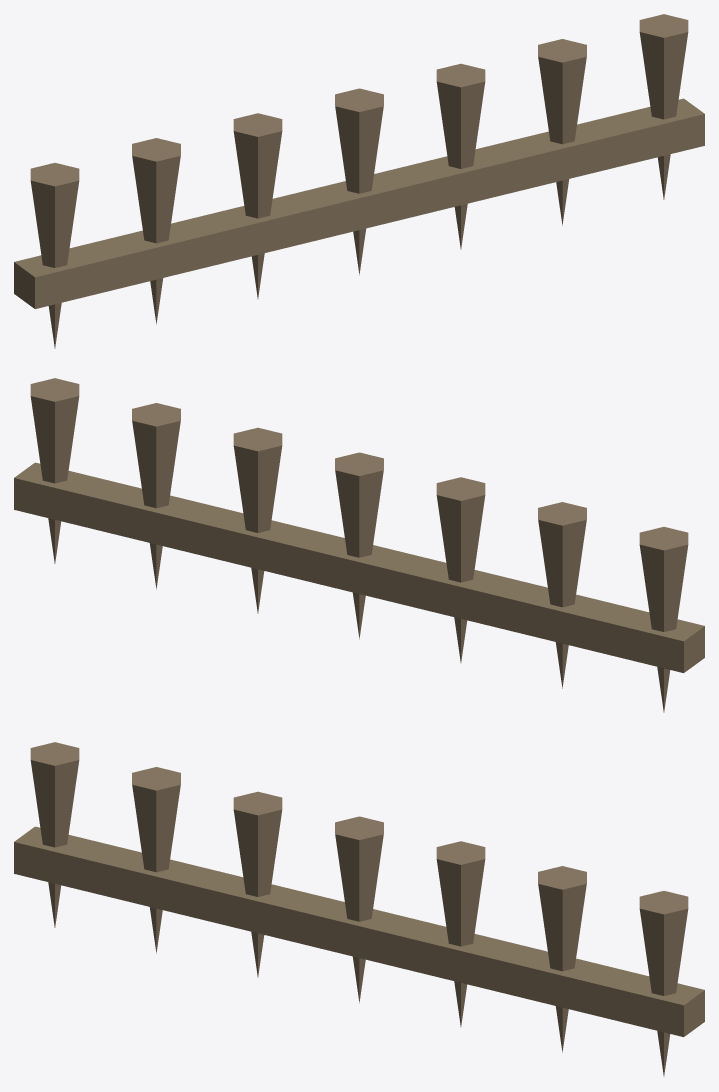
File: fence_spikes.glb
The picture shows the model from 3 angles, top to bottom: view 1: azimuth 30°, elevation 25°; view 2: azimuth 150°, elevation 25°; view 3: azimuth 330°, elevation 25°; orthographic projection.
Visible parts, largest first — view 1: world; view 2: world; view 3: world.
Part boxes in pixels (<box>): world: <box>14,14,704,348</box>; world: <box>14,378,704,712</box>; world: <box>14,742,704,1076</box>.
Size of the model in its own units: 2.2 by 0.55 by 0.1386.
